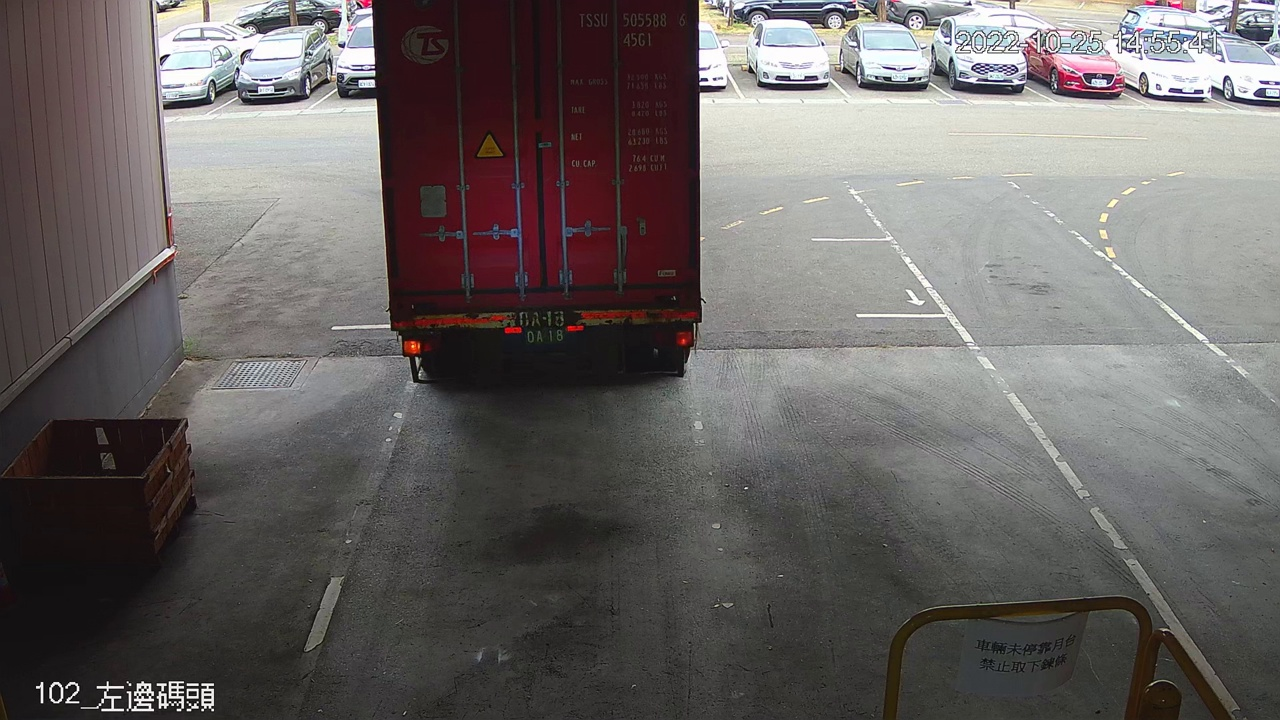container: (568, 5, 692, 51)
